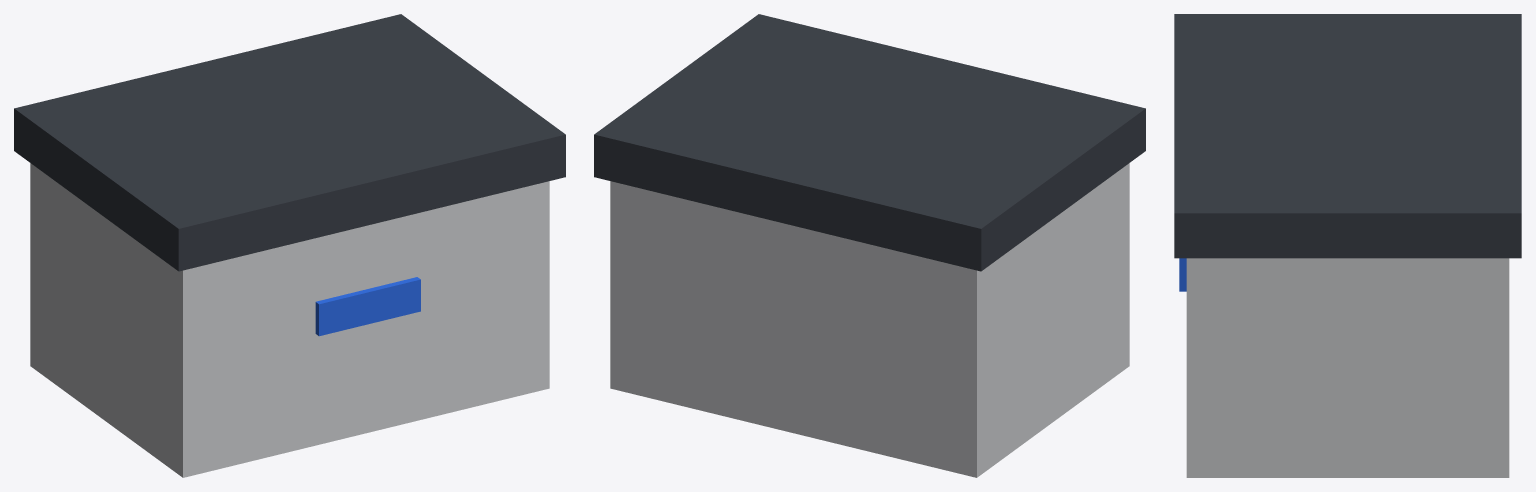
The model's file is caixa-organizadora.glb.
The picture shows the model from 3 angles, left to right: view 1: azimuth 30°, elevation 25°; view 2: azimuth 150°, elevation 25°; view 3: azimuth 270°, elevation 25°; orthographic projection. The views are drawn at different scales.
Parts seen in each view (by area): view 1: storageBox; view 2: storageBox; view 3: storageBox.
Part boxes in pixels (<box>): storageBox: <box>14,14,565,477</box>; storageBox: <box>594,14,1145,477</box>; storageBox: <box>1174,14,1521,477</box>.
Bounding box in the file's own units: 0.38 × 0.24 × 0.28.
